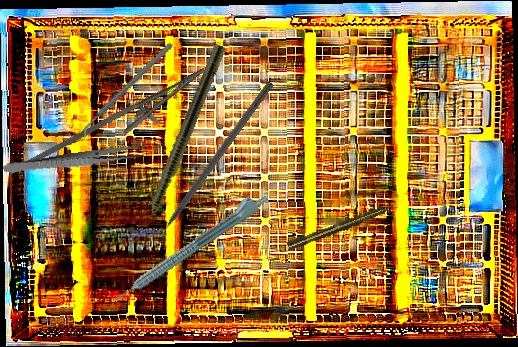Chopper: (60, 40, 194, 141)
Dressing Forceps: (2, 143, 147, 178)
Handpiece: (131, 42, 228, 248), (107, 186, 270, 306), (285, 199, 400, 252)
Hook Surgical: (150, 79, 274, 246)
Needle Holder: (8, 45, 215, 211)
